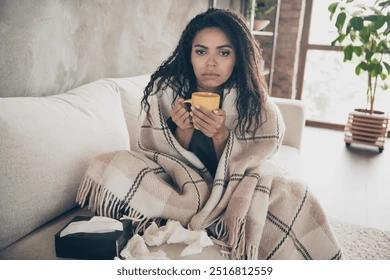blanket: (75, 74, 343, 260)
